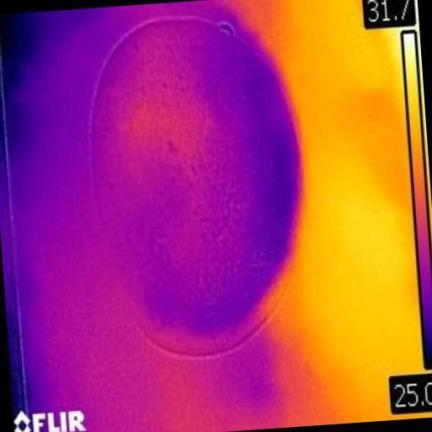mango: (91, 18, 299, 352)
